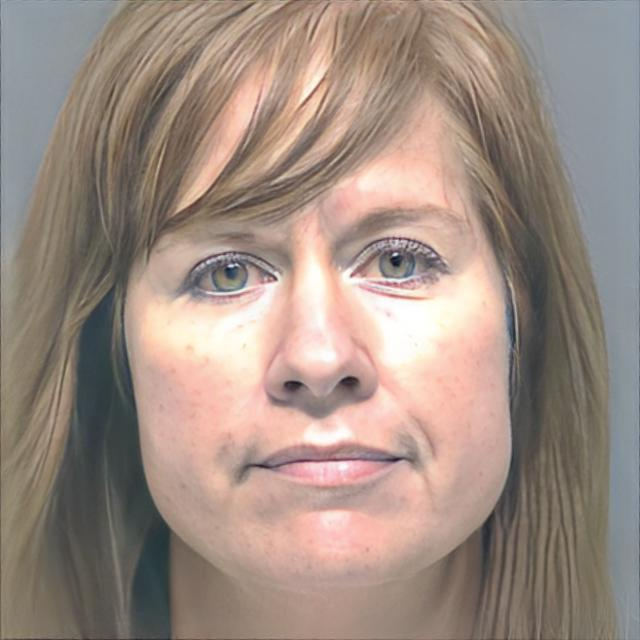neutral: (125, 49, 518, 590)
